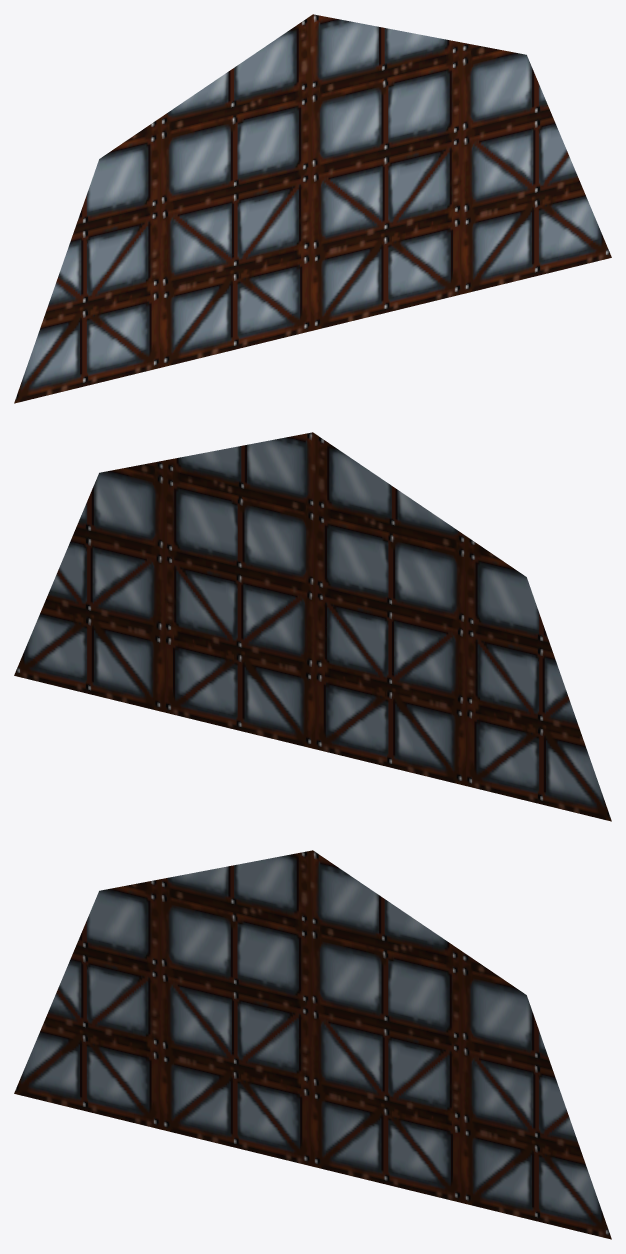
Rendered from halbtonne_abschlusz2_879.glb.
3 renders of one model, top to bottom at view 1: azimuth 30°, elevation 25°; view 2: azimuth 150°, elevation 25°; view 3: azimuth 330°, elevation 25°, orthographic.
Visible parts, largest first — view 1: polySurfaceShape1; view 2: polySurfaceShape1; view 3: polySurfaceShape1.
Part boxes in pixels (x1,y1,x2,y2): polySurfaceShape1: (14, 14, 611, 403); polySurfaceShape1: (14, 432, 611, 821); polySurfaceShape1: (14, 850, 611, 1239).
Size of the model in its own units: 1 by 0.5056 by 2.21e-08.
Materials: 1 (1 with a texture image).
